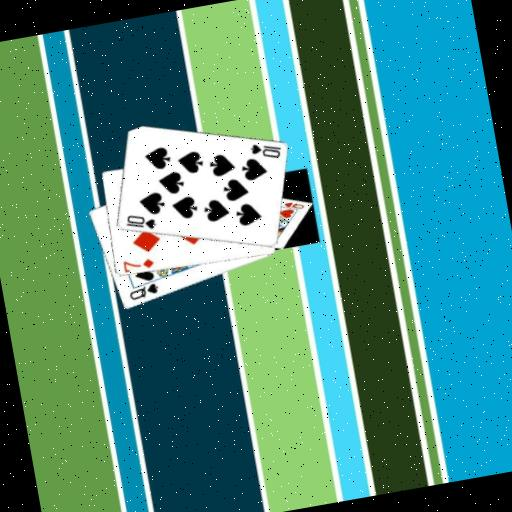10S: (245, 136, 283, 164), (121, 208, 158, 235)
7D: (119, 253, 156, 274)
QS: (124, 279, 161, 303)
